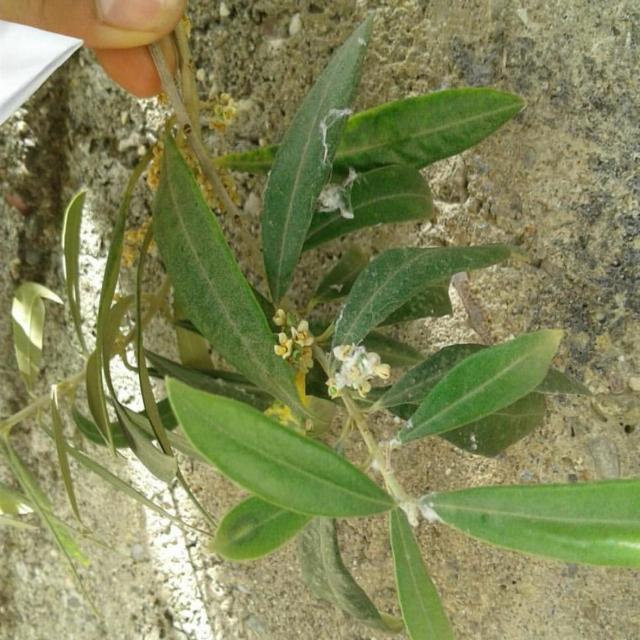Psyllid: (326, 345, 390, 399), (366, 416, 410, 477), (316, 168, 359, 219), (393, 486, 443, 528), (319, 108, 352, 171)
